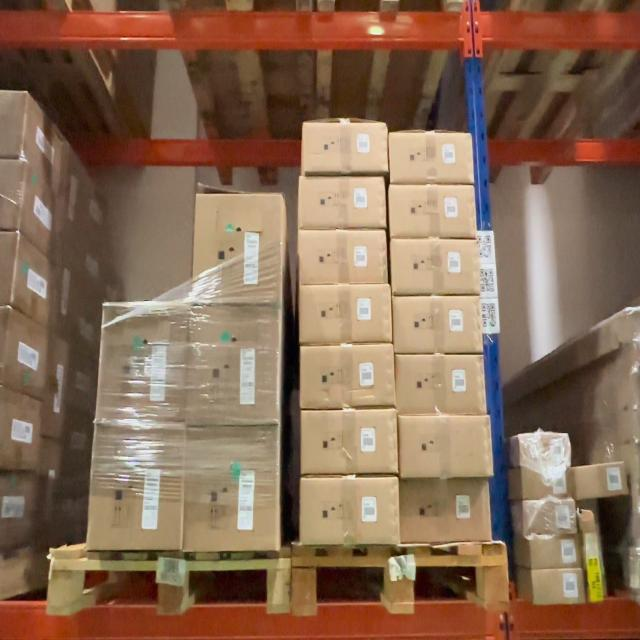box: (96, 428, 178, 546), (195, 312, 278, 426), (104, 308, 185, 423), (192, 435, 276, 545), (197, 194, 281, 301), (301, 479, 399, 543), (302, 415, 396, 473), (303, 346, 392, 404), (403, 419, 492, 474), (394, 297, 481, 351), (396, 358, 483, 412), (302, 288, 390, 340), (391, 241, 478, 292), (404, 485, 488, 535), (299, 179, 384, 228), (301, 234, 386, 282), (391, 132, 472, 181), (304, 122, 384, 170), (391, 190, 474, 236), (525, 432, 568, 471), (576, 466, 626, 494), (534, 575, 582, 602), (528, 506, 571, 532), (534, 542, 577, 566), (524, 474, 569, 496)
